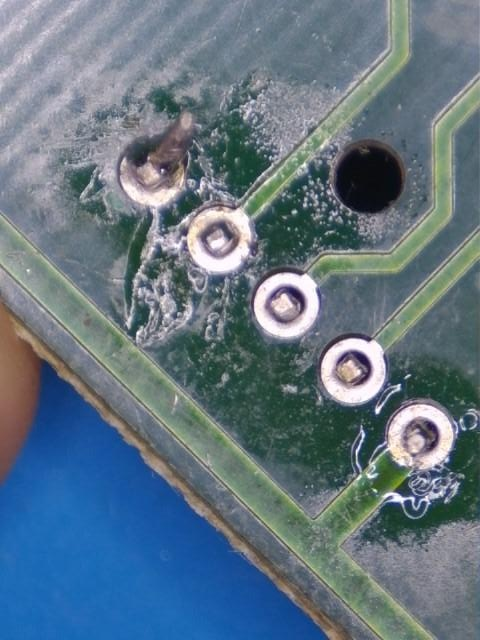pcb_defect: (187, 206, 251, 272), (120, 141, 183, 206)
